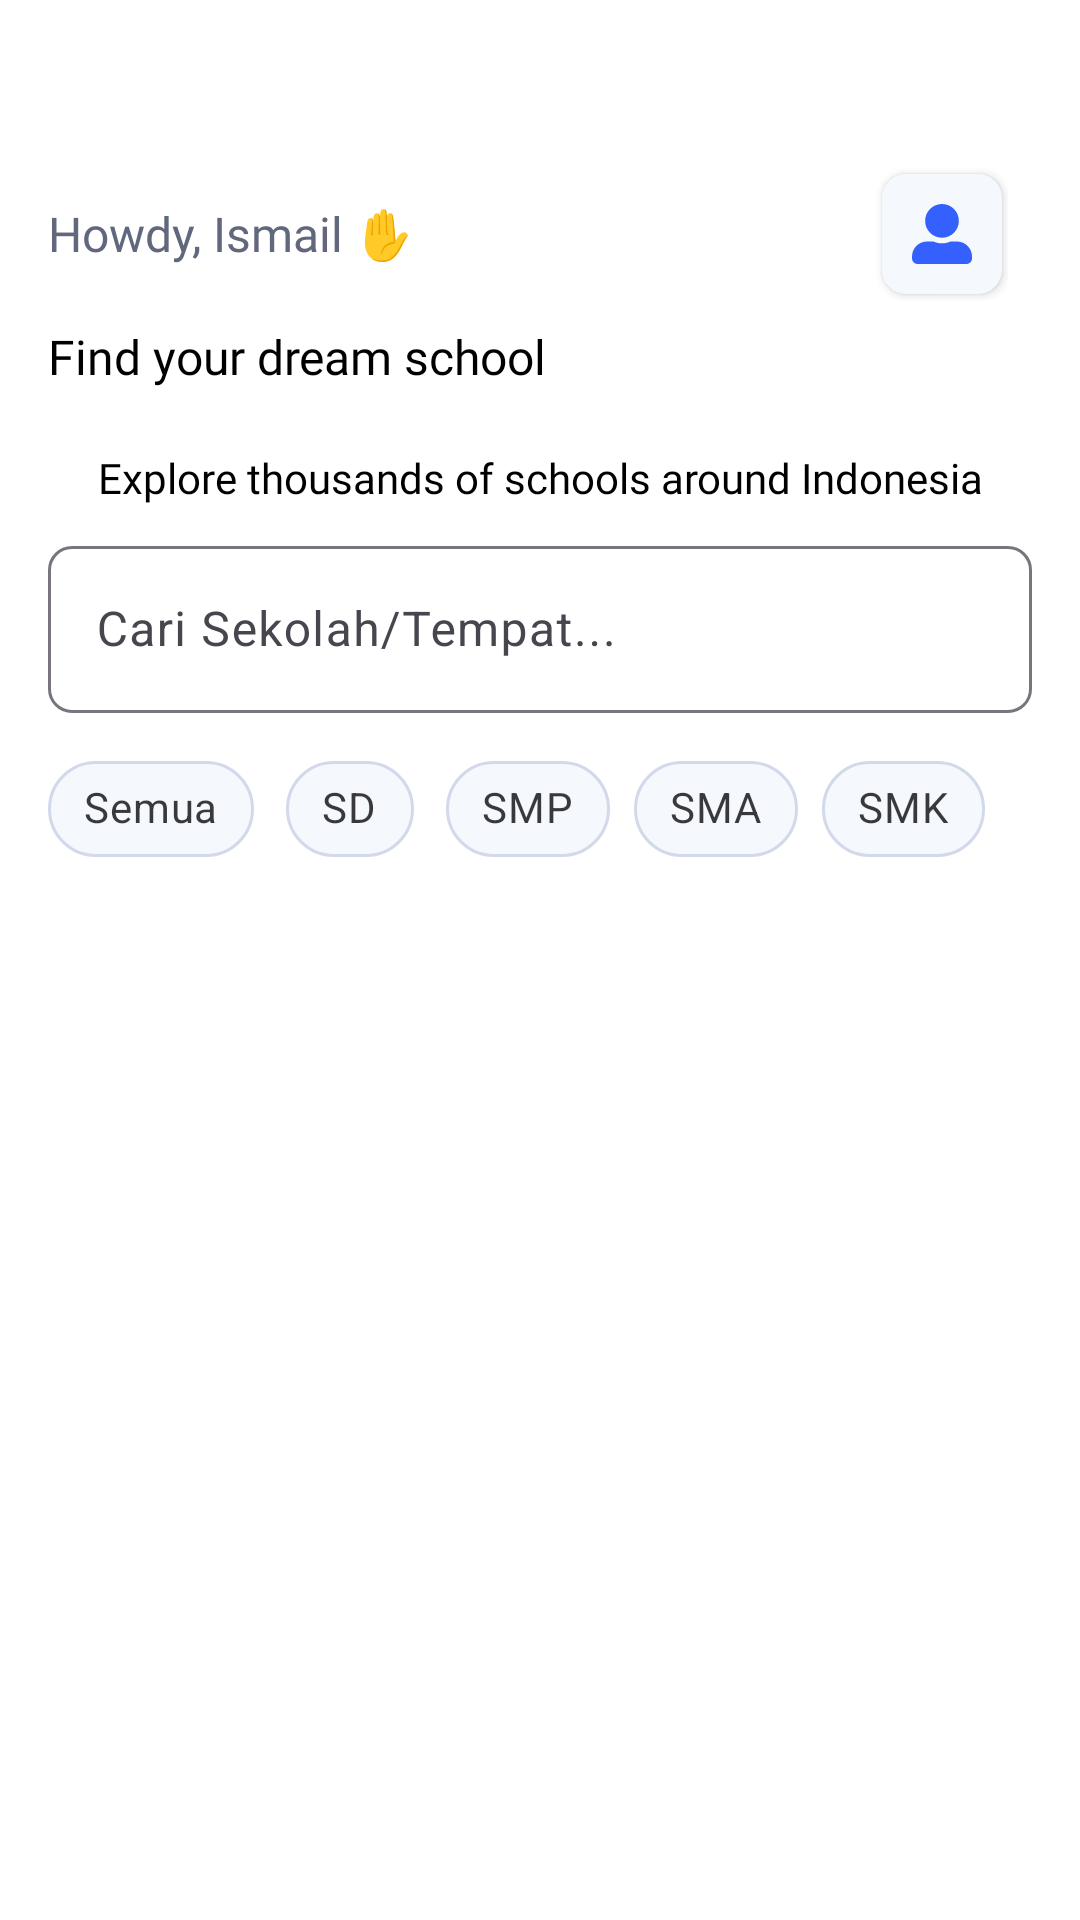

Named icons in this screenshot (1080×1920) and their centers, point (x, y):
profile: point (942, 234)
